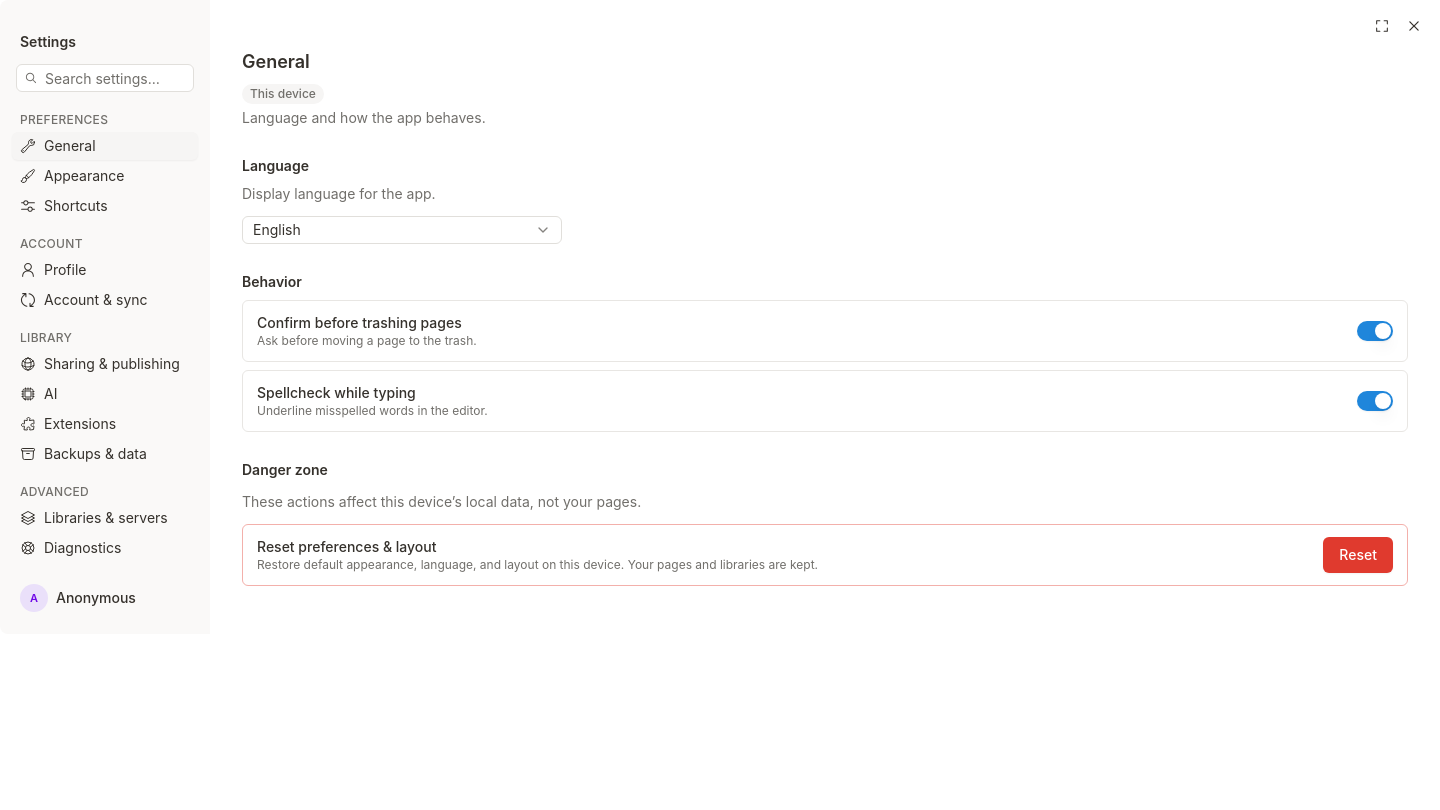
Test: SettingsPanel › shows a no-results message for a non-matching query
Type "zzzznomatch" into the dropdown with placeholder "Search settings…".
click(105, 78); type("zzzznomatch")  # box x1=16 y1=64 x2=194 y2=92
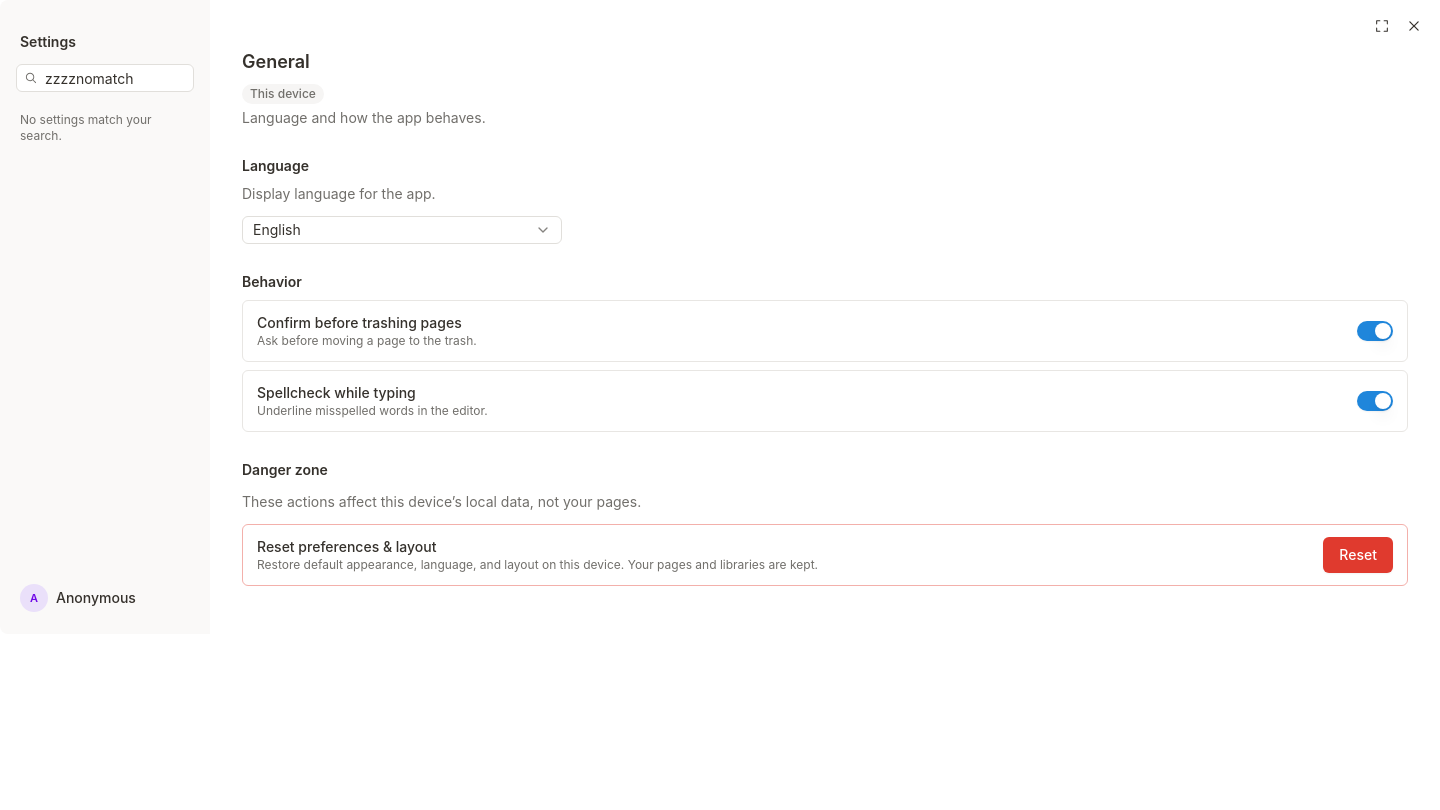
Check: the text "No settings match your search." is shown, box x1=20 y1=112 x2=152 y2=143
